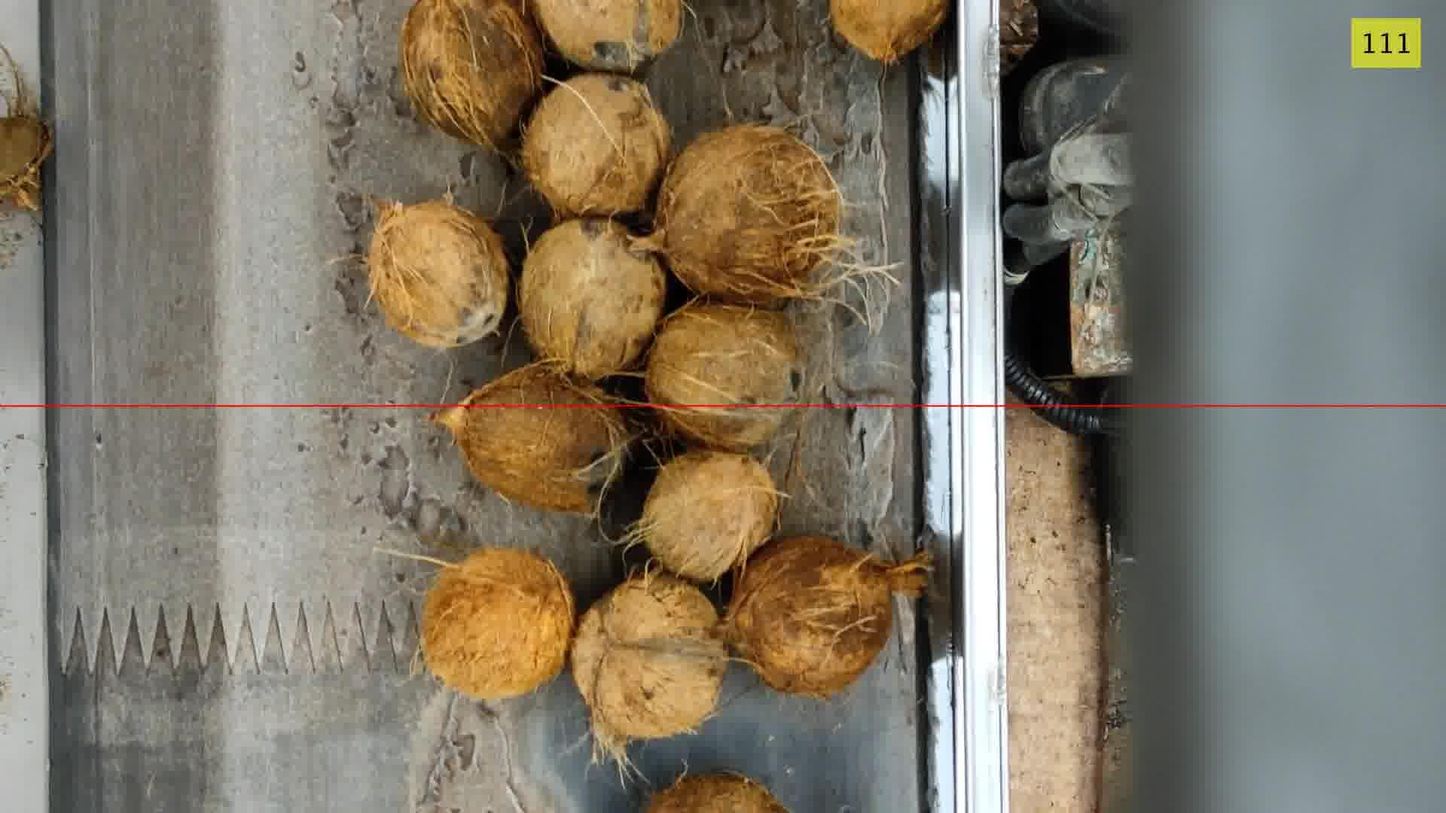Coconut: (643, 123, 842, 305), (724, 535, 929, 697), (571, 573, 728, 766), (431, 362, 628, 515), (518, 219, 666, 379), (645, 303, 803, 452), (420, 547, 574, 699), (400, 0, 543, 151), (521, 73, 670, 217), (365, 199, 508, 349), (628, 449, 779, 582), (529, 0, 683, 72), (0, 47, 53, 210), (831, 0, 951, 64), (645, 772, 789, 812)
